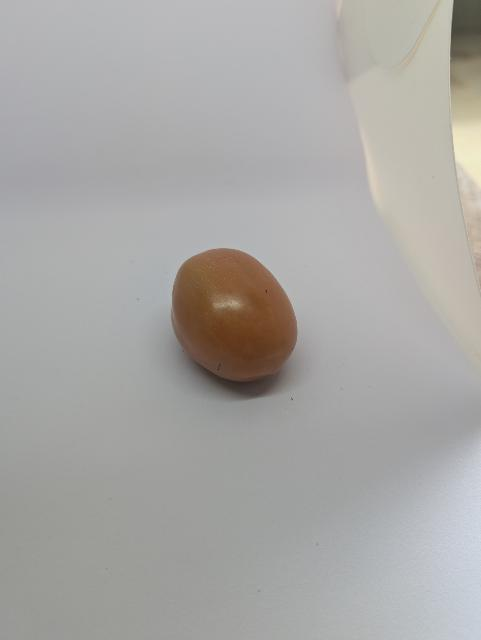turning: (165, 247, 309, 390)
